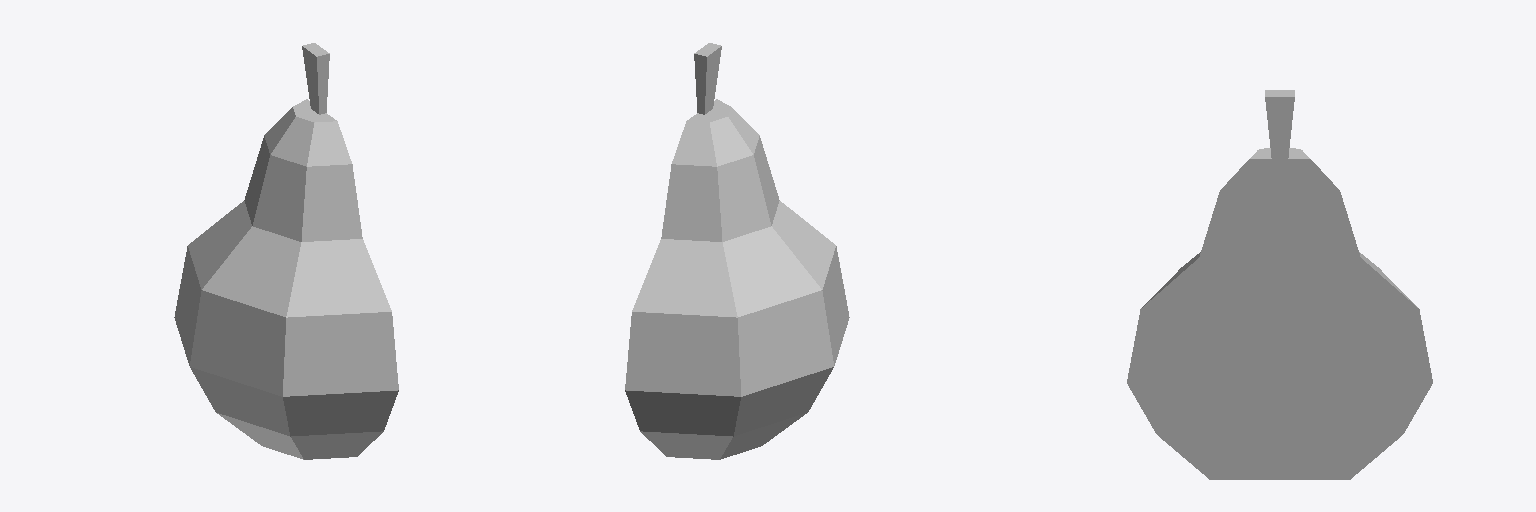
File: pear-half.obj
The picture shows the model from 3 angles: view 1: azimuth 30°, elevation 25°; view 2: azimuth 150°, elevation 25°; view 3: azimuth 270°, elevation 25°; orthographic projection.
Parts seen in each view (by area): view 1: pear-half; view 2: pear-half; view 3: pear-half.
Part boxes in pixels (x1,y1,x2,y2): pear-half: (174, 43, 398, 459); pear-half: (625, 43, 849, 459); pear-half: (1127, 90, 1432, 479).
Size of the model in its own units: 0.0981 by 0.2708 by 0.1963.